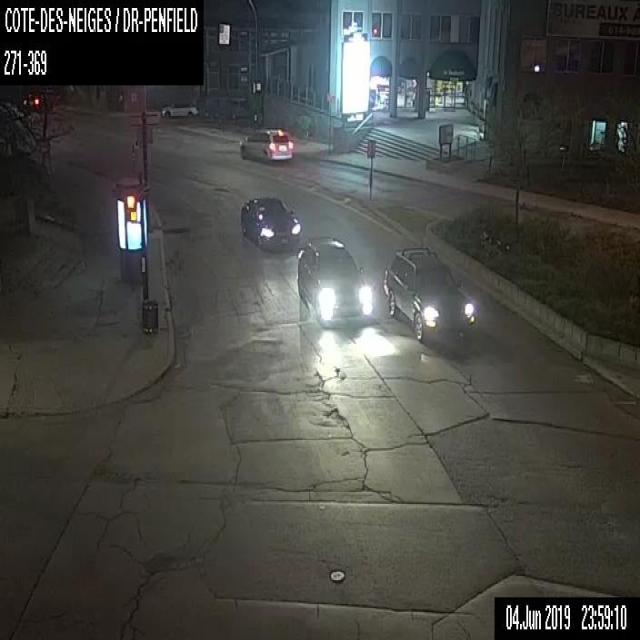vehicle: (382, 245, 475, 340), (297, 235, 372, 322), (240, 196, 300, 250), (238, 125, 293, 160), (160, 100, 199, 117), (203, 102, 237, 120)
